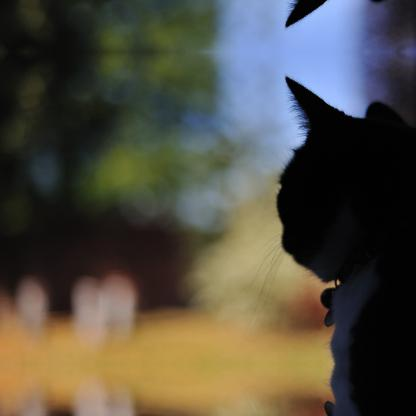Cat: (245, 70, 414, 362)
